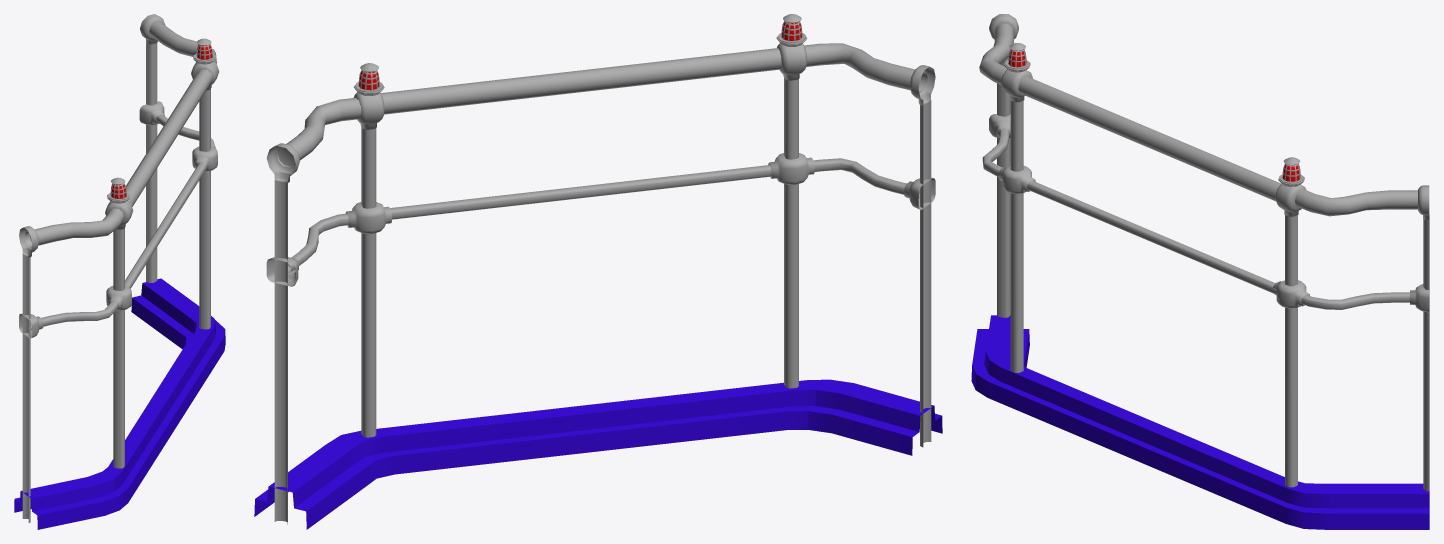
The model's file is Rail_standalone_corner_R.fbx.
3 views of the same model, side by side, from view 1: azimuth 30°, elevation 25°; view 2: azimuth 150°, elevation 25°; view 3: azimuth 270°, elevation 25° (orthographic). The views are drawn at different scales.
Visible parts, largest first — view 1: Railwalk_standalone_croner_L; view 2: Railwalk_standalone_croner_L; view 3: Railwalk_standalone_croner_L.
Part boxes in pixels (box(x1,y1,x2,y2)): Railwalk_standalone_croner_L: box(14, 14, 225, 529); Railwalk_standalone_croner_L: box(254, 14, 942, 529); Railwalk_standalone_croner_L: box(971, 14, 1429, 529).
Bounding box in the file's own units: 1.46 × 1.32 × 1.53.
